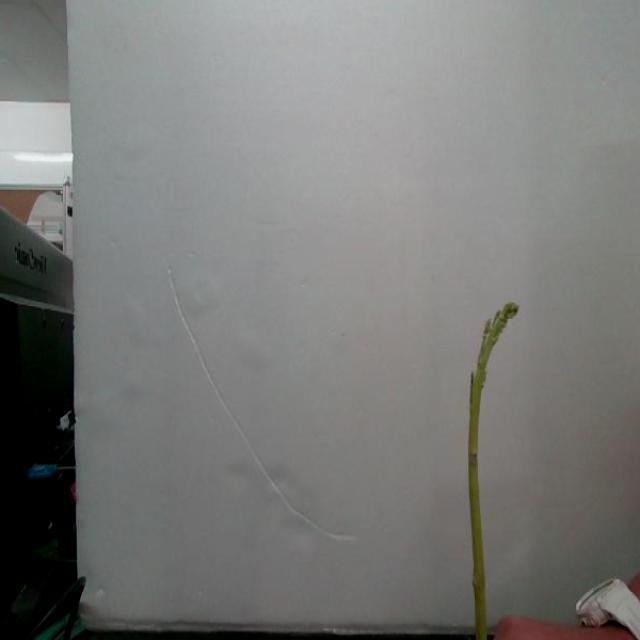aspargus: (468, 305, 520, 640)
